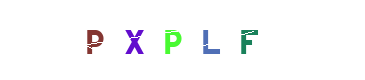F: (206, 0, 286, 80)
L: (143, 0, 223, 80)
P: (53, 0, 133, 80), (131, 0, 211, 80)
X: (126, 0, 206, 80)
